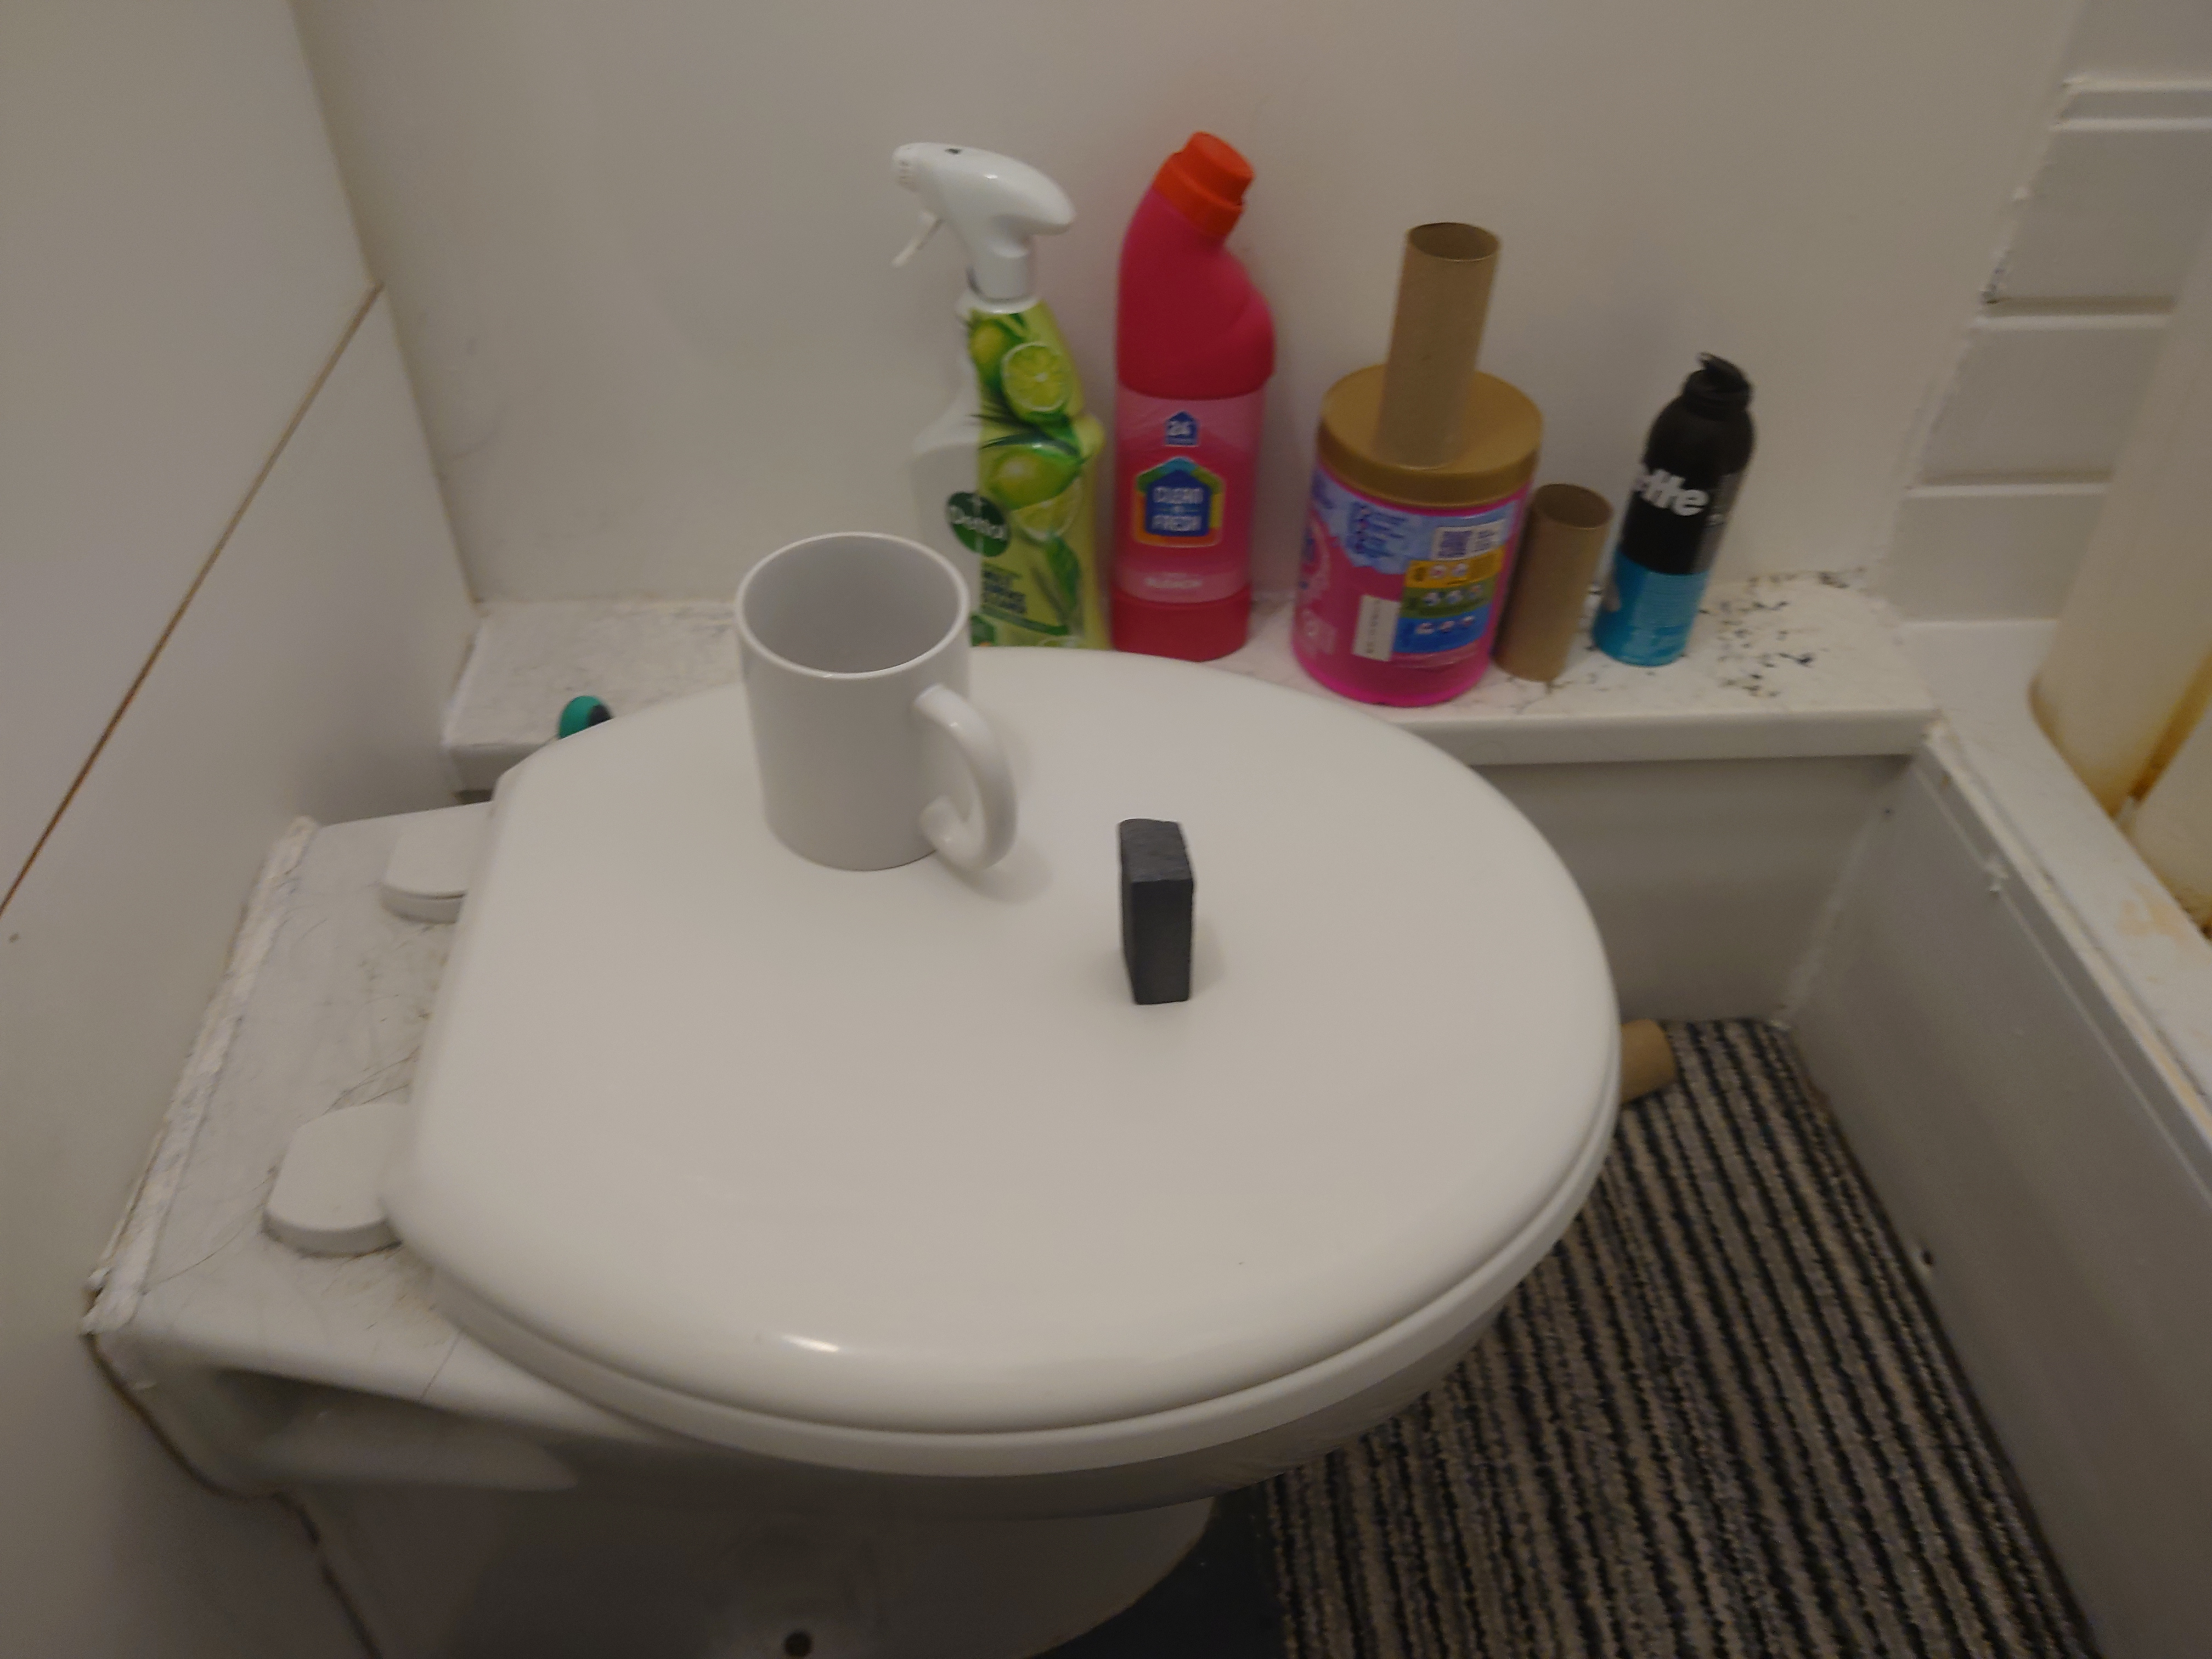cup: (728, 523, 1028, 884)
target: (1109, 816, 1197, 1007)
